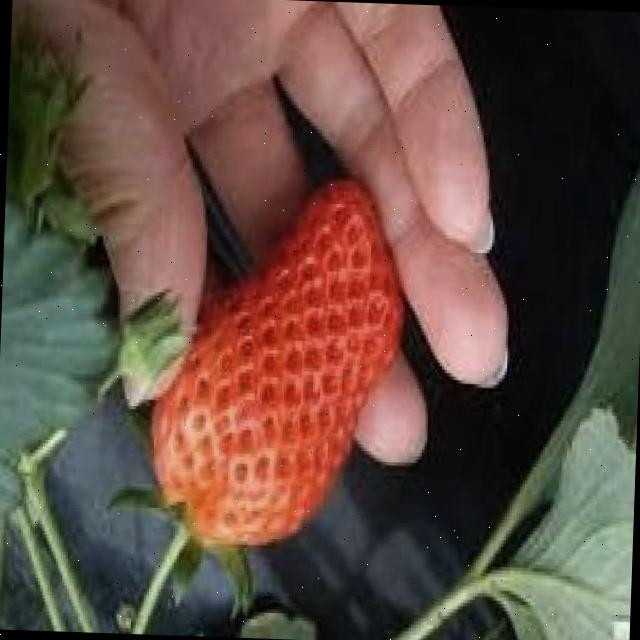strawberry: (147, 170, 405, 550)
